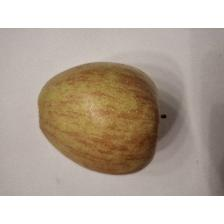Apfel: (36, 60, 174, 178)
